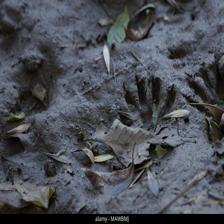raccoon: (113, 70, 178, 140)
